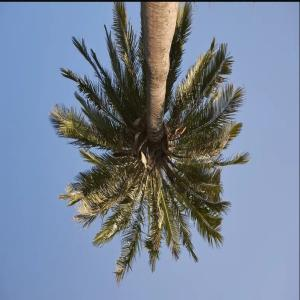palm tree: (48, 1, 250, 285)
